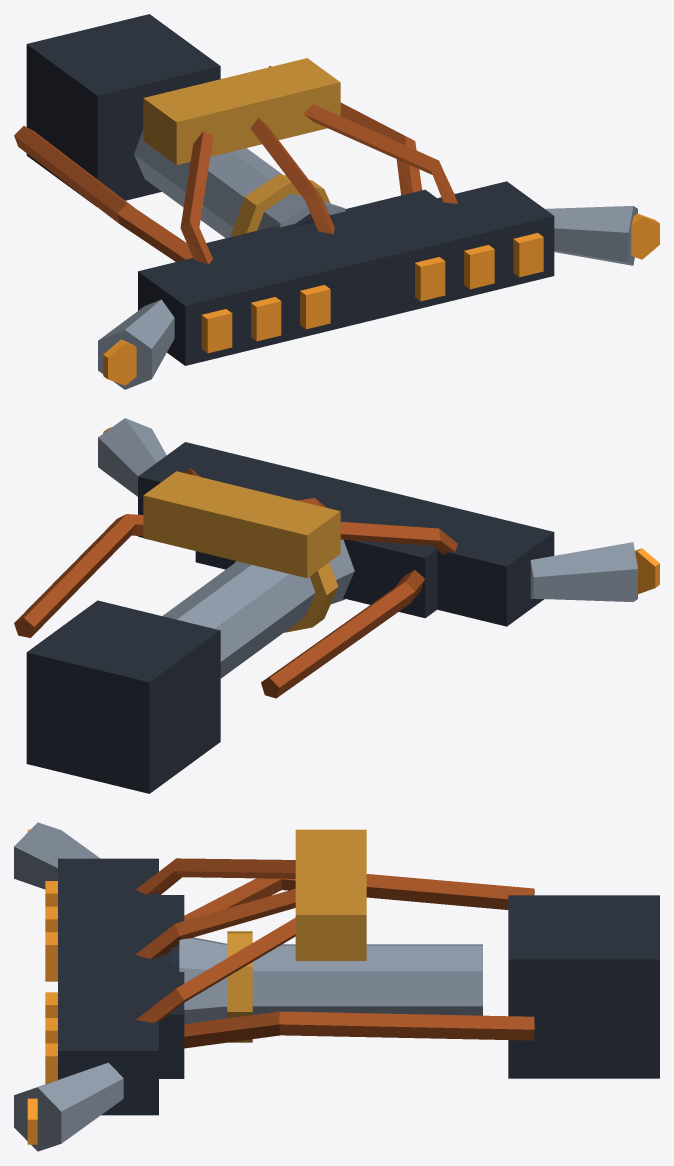
File: FlameB1.obj
The picture shows the model from 3 angles, top to bottom: view 1: azimuth 30°, elevation 25°; view 2: azimuth 150°, elevation 25°; view 3: azimuth 270°, elevation 25°; orthographic projection. The views are drawn at different scales.
Parts seen in each view (by area): view 1: FlameB1; view 2: FlameB1; view 3: FlameB1.
Part boxes in pixels (box(x1,y1,x2,y2)): FlameB1: box(14, 14, 659, 389); FlameB1: box(14, 418, 659, 793); FlameB1: box(14, 822, 659, 1151).
Size of the model in its own units: 1.35 by 0.38 by 1.28.
